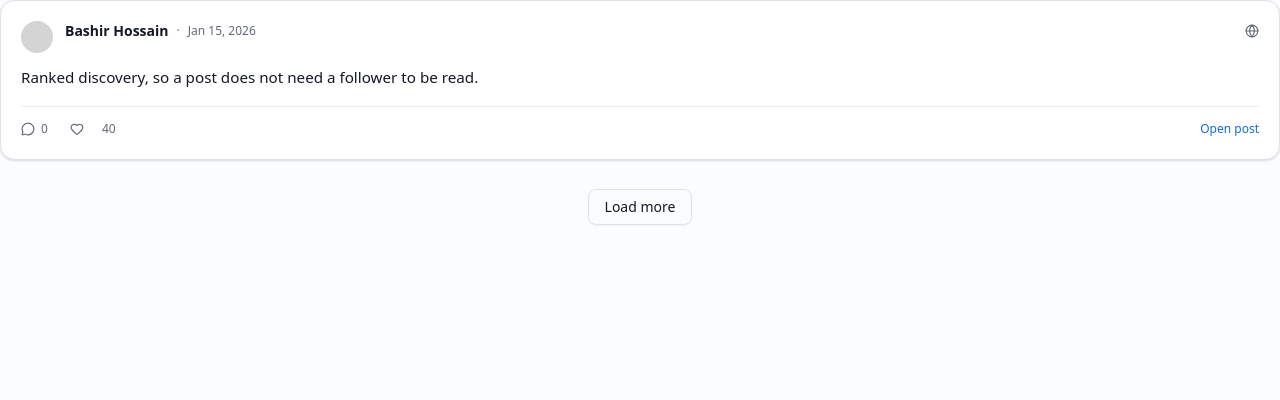
ExploreFeed › appends the next page when "Load more" is pressed
Check: the text "Ranked discovery, so a post does not need a follower to be read." is shown, box [21,67,478,87]
Click the button "Load more": x=640, y=207 [588,189,692,225]
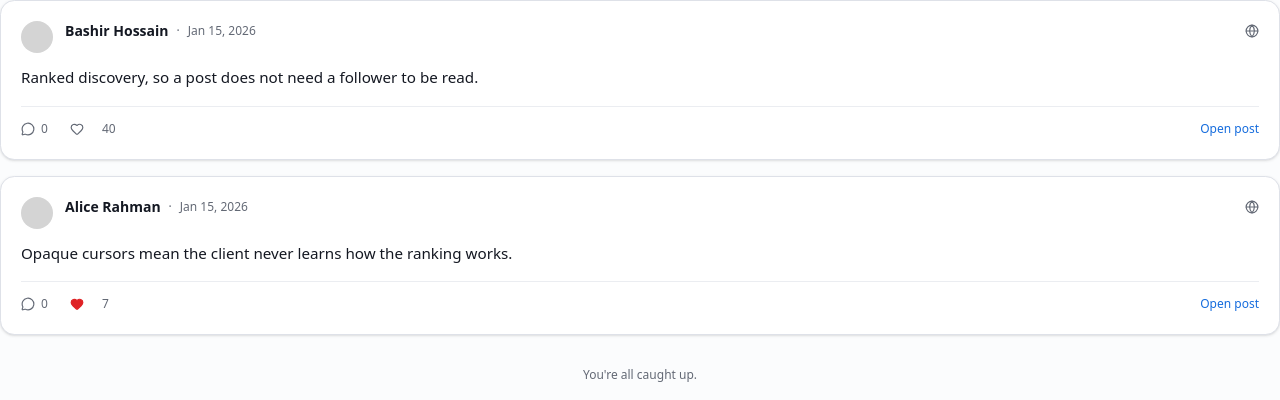
Check: the text "Opaque cursors mean the client never learns how the ranking works." is shown, box [21,243,512,263]
Check: the text "You're all caught up." is shown, box [583,366,697,383]
